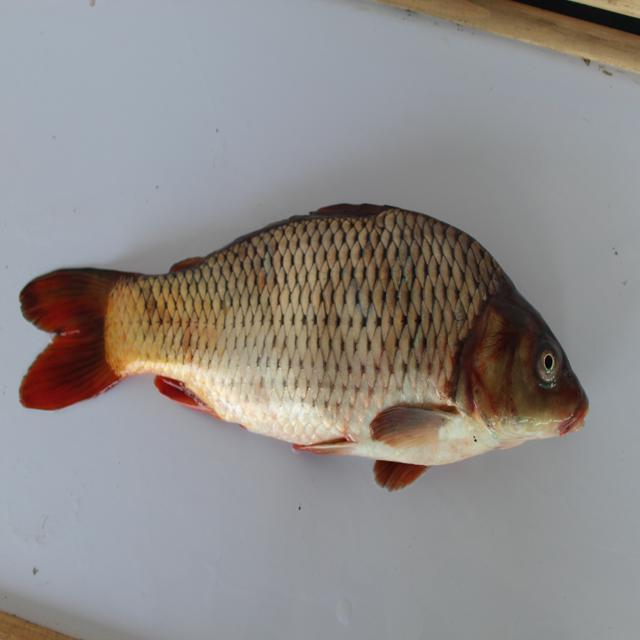Grass Carp: (19, 202, 590, 492)
